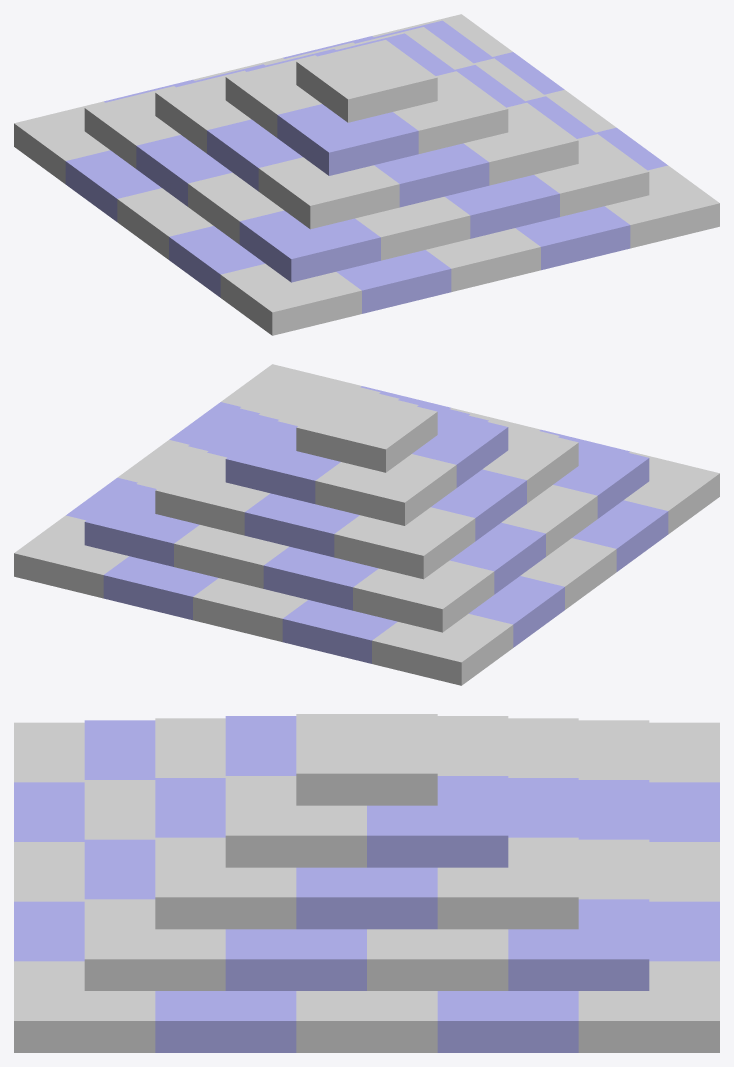
Rendered from board.glb.
The picture shows the model from 3 angles, top to bottom: view 1: azimuth 30°, elevation 25°; view 2: azimuth 150°, elevation 25°; view 3: azimuth 270°, elevation 25°; orthographic projection. The views are drawn at different scales.
Parts seen in each view (by area): view 1: Copper_Net1_Contour0 (×2), Copper_Net1_Contour1 (×2), Copper_Net1_Contour2 (×2), Copper_Net1_Contour7 (×2), Copper_Net1_Contour4 (×2), Copper_Net1_Contour3 (×2), Copper_Net1_Contour5, Copper_Net1_Contour6, Copper_Net1_Contour10, Copper_Net1_Contour12, Copper_Net1_Contour9; view 2: Copper_Net1_Contour0 (×2), Copper_Net1_Contour1 (×2), Copper_Net1_Contour7 (×2), Copper_Net1_Contour3 (×2), Copper_Net1_Contour6 (×2), Copper_Net1_Contour10 (×2), Copper_Net1_Contour4 (×2), Copper_Net1_Contour2 (×2), Copper_Net1_Contour11 (×2), Copper_Net1_Contour12, Copper_Net1_Contour5, Copper_Net1_Contour9; view 3: Copper_Net1_Contour0 (×2), Copper_Net1_Contour1 (×2), Copper_Net1_Contour7 (×2), Copper_Net1_Contour2 (×2), Copper_Net1_Contour4 (×2), Copper_Net1_Contour3 (×2), Copper_Net1_Contour12, Copper_Net1_Contour9, Copper_Net1_Contour5, Copper_Net1_Contour6 (×2), Copper_Net1_Contour10 (×2), Copper_Net1_Contour11 (×2).
Boxes of the visible parts, x1=… form: Copper_Net1_Contour0 (×2): x1=220, y1=40, x2=508, y2=335; Copper_Net1_Contour1 (×2): x1=207, y1=33, x2=649, y2=291; Copper_Net1_Contour2 (×2): x1=169, y1=65, x2=719, y2=297; Copper_Net1_Contour7 (×2): x1=65, y1=20, x2=615, y2=221; Copper_Net1_Contour4 (×2): x1=136, y1=27, x2=667, y2=206; Copper_Net1_Contour3 (×2): x1=155, y1=49, x2=596, y2=153; Copper_Net1_Contour5: x1=117, y1=58, x2=545, y2=259; Copper_Net1_Contour6: x1=84, y1=86, x2=180, y2=168; Copper_Net1_Contour10: x1=14, y1=101, x2=109, y2=184; Copper_Net1_Contour12: x1=372, y1=14, x2=512, y2=56; Copper_Net1_Contour9: x1=493, y1=52, x2=564, y2=94; Copper_Net1_Contour0 (×2): x1=278, y1=383, x2=719, y2=534; Copper_Net1_Contour1 (×2): x1=225, y1=370, x2=540, y2=541; Copper_Net1_Contour7 (×2): x1=84, y1=440, x2=564, y2=647; Copper_Net1_Contour3 (×2): x1=188, y1=408, x2=475, y2=579; Copper_Net1_Contour6 (×2): x1=263, y1=546, x2=494, y2=632; Copper_Net1_Contour10 (×2): x1=282, y1=600, x2=513, y2=685; Copper_Net1_Contour4 (×2): x1=155, y1=402, x2=545, y2=594; Copper_Net1_Contour2 (×2): x1=207, y1=364, x2=668, y2=571; Copper_Net1_Contour11 (×2): x1=103, y1=556, x2=307, y2=641; Copper_Net1_Contour12: x1=14, y1=515, x2=128, y2=598; Copper_Net1_Contour5: x1=137, y1=446, x2=616, y2=609; Copper_Net1_Contour9: x1=66, y1=477, x2=137, y2=520; Copper_Net1_Contour0 (×2): x1=14, y1=714, x2=437, y2=867; Copper_Net1_Contour1 (×2): x1=14, y1=716, x2=508, y2=990; Copper_Net1_Contour7 (×2): x1=296, y1=839, x2=649, y2=1052; Copper_Net1_Contour2 (×2): x1=14, y1=867, x2=437, y2=1052; Copper_Net1_Contour4 (×2): x1=155, y1=837, x2=578, y2=1052; Copper_Net1_Contour3 (×2): x1=225, y1=718, x2=578, y2=990; Copper_Net1_Contour12: x1=578, y1=961, x2=719, y2=1052; Copper_Net1_Contour9: x1=437, y1=991, x2=578, y2=1052; Copper_Net1_Contour5: x1=367, y1=929, x2=508, y2=990; Copper_Net1_Contour6 (×2): x1=578, y1=720, x2=649, y2=839; Copper_Net1_Contour10 (×2): x1=649, y1=722, x2=719, y2=841; Copper_Net1_Contour11 (×2): x1=649, y1=842, x2=719, y2=961.
Bounding box in the file's own units: 2e-05 × 5e-06 × 2e-05.
